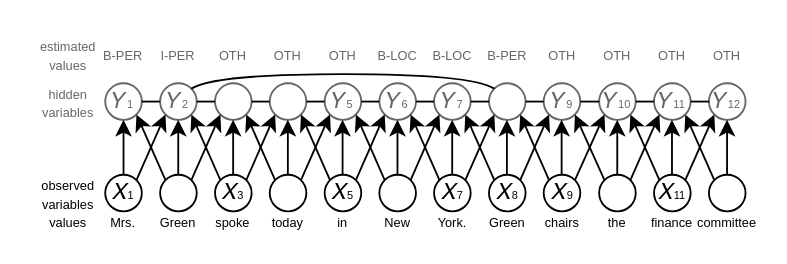
Some shapes in this 787 by 264 pixel diagram are drawn without their labels. Each missing label, with the centre of its shape:
𝑋 10: (616,192)
𝑋 12: (726,192)
𝑋 2: (177,192)
𝑋 4: (287,192)
𝑋 6: (397,192)
𝑌 3: (232,100)
𝑌 4: (287,100)
𝑌 8: (506,100)
